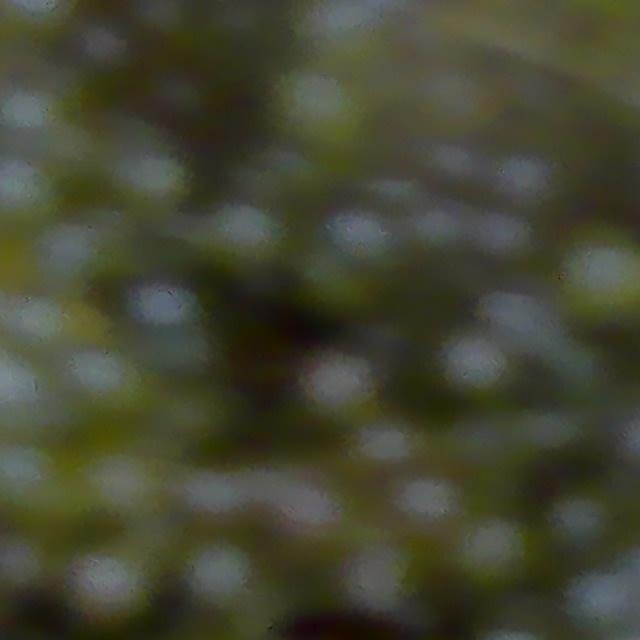SeaGrape: (272, 63, 370, 156), (558, 228, 640, 324), (79, 439, 169, 524), (65, 342, 156, 424), (337, 536, 421, 622), (295, 345, 381, 426), (109, 141, 191, 212), (481, 285, 560, 357), (183, 538, 257, 613), (0, 439, 64, 524), (0, 152, 61, 231), (0, 350, 53, 438), (391, 468, 462, 533), (440, 330, 510, 395), (0, 526, 51, 597), (551, 490, 611, 549), (132, 279, 196, 333), (472, 207, 532, 262)
